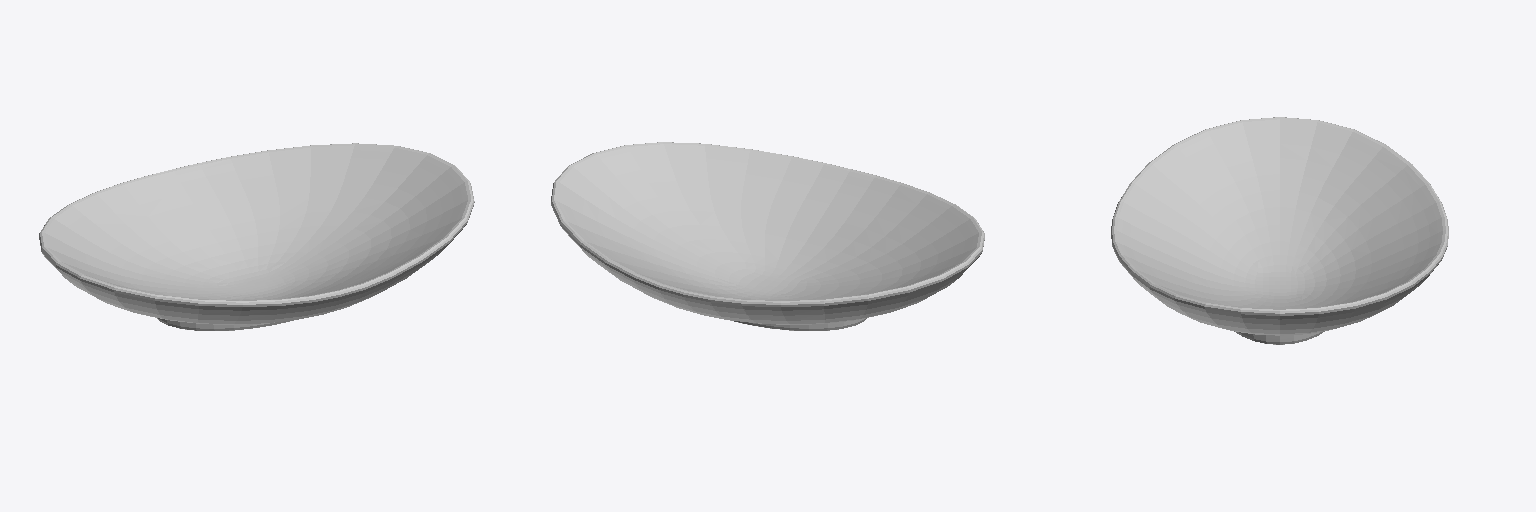
Rendered from ceramic-tray-005.obj.
3 renders of one model, left to right at view 1: azimuth 30°, elevation 25°; view 2: azimuth 150°, elevation 25°; view 3: azimuth 270°, elevation 25°, orthographic.
Parts seen in each view (by area): view 1: ceramic-tray-005; view 2: ceramic-tray-005; view 3: ceramic-tray-005.
Part boxes in pixels (x1,y1,x2,y2): ceramic-tray-005: (39,143,474,330); ceramic-tray-005: (551,142,984,330); ceramic-tray-005: (1111,117,1448,344).
Size of the model in its own units: 0.1389 by 0.0282 by 0.1016.